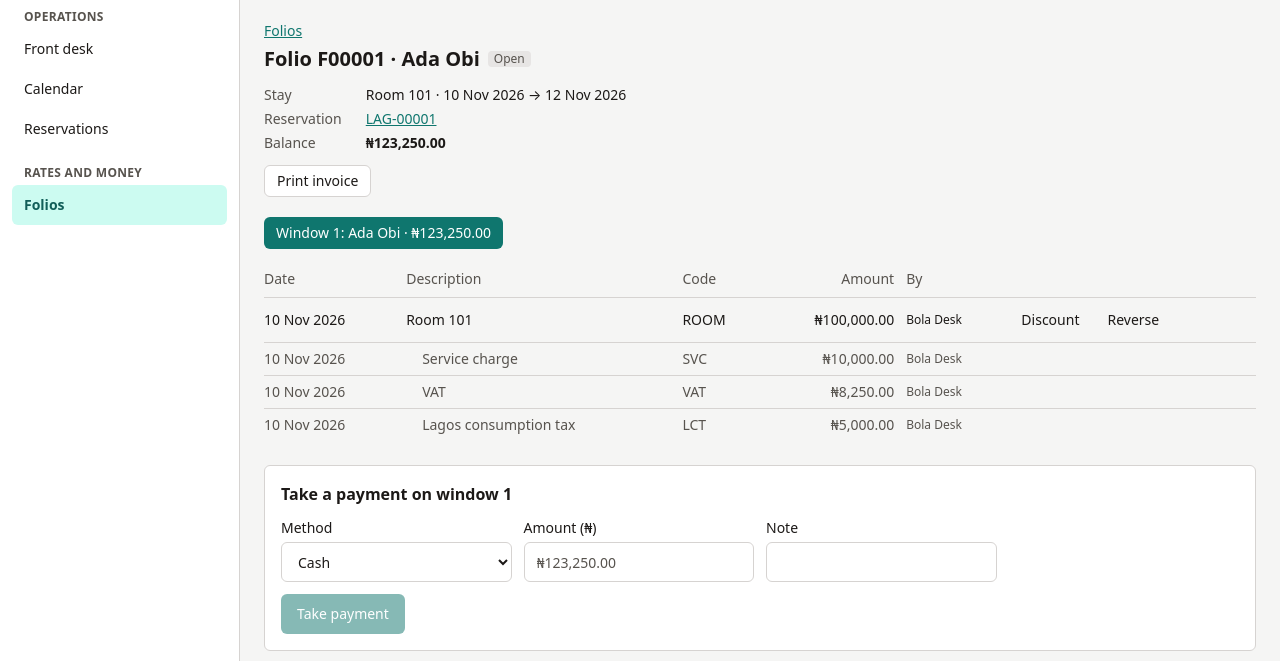
Test: Payments and documents (M4-08; T-062) › takes a payment with a reference for anything but cash
Expected: the field labelled "Reference" is not shown
Select "POS terminal" in the dropdown labelled "Method": (396, 562) [281,542,512,582]
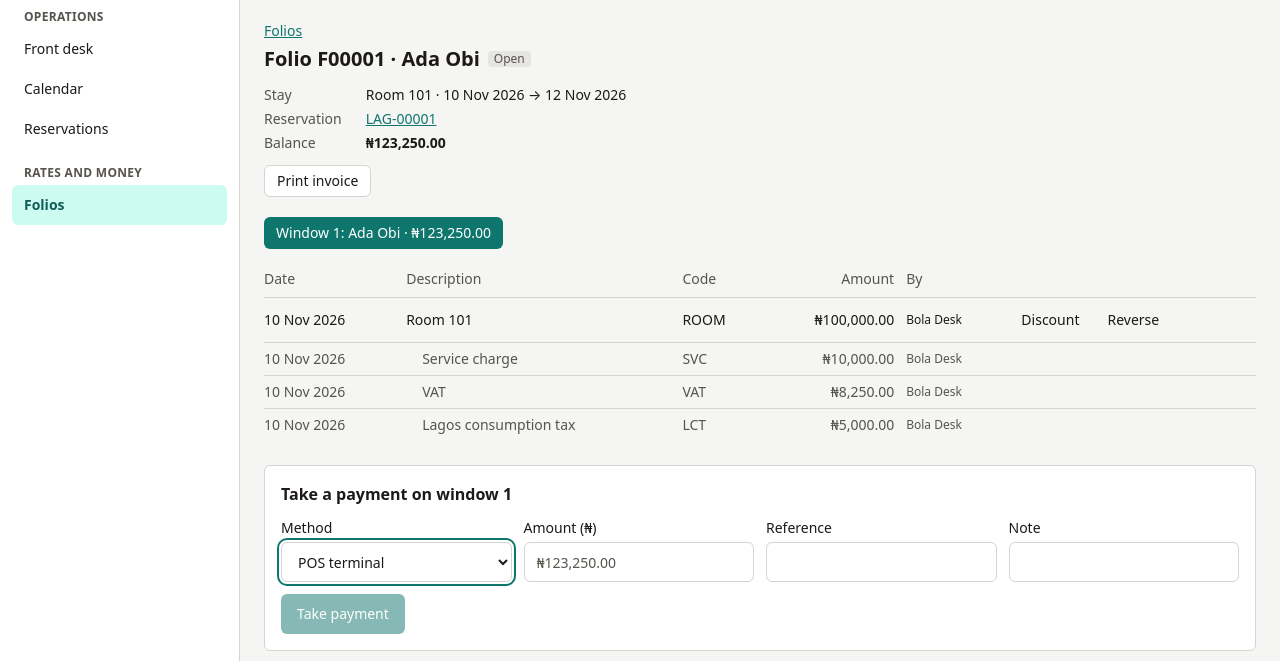
In the field labelled "Amount (₦)": (639, 562) [524,542,754,582], type "123,250"
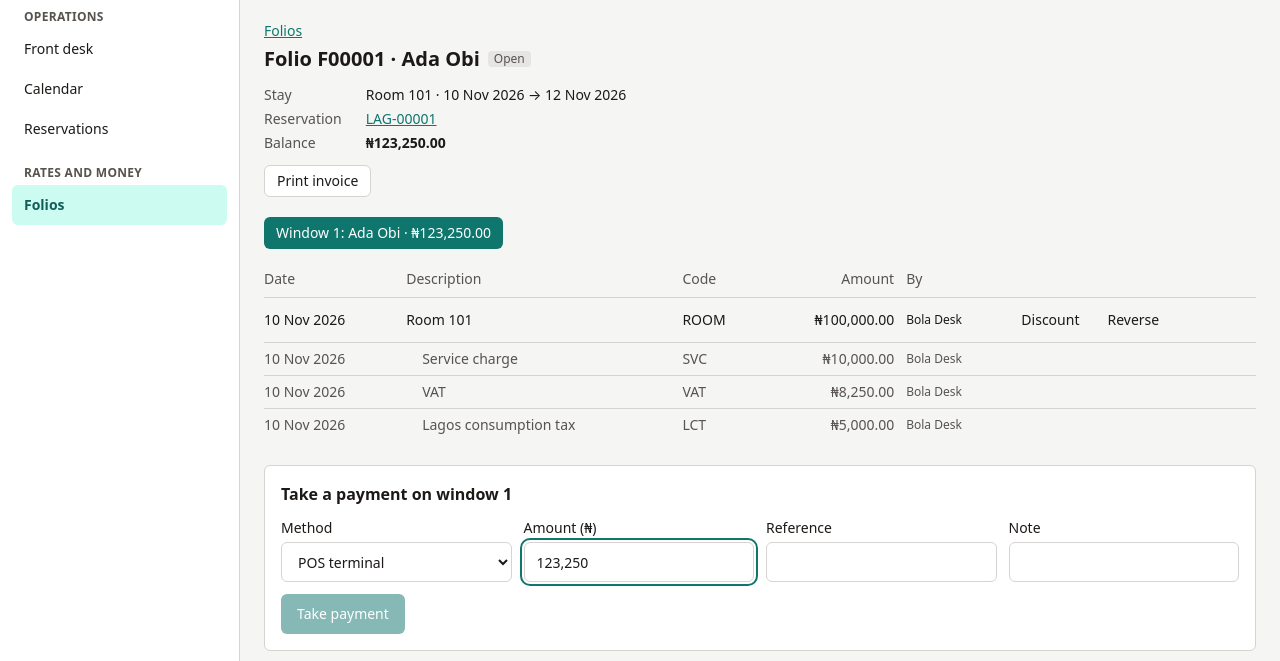
Expected: the button "Take payment" is disabled, [281,594,405,634]
In the field labelled "Reference": (881, 562) [766,542,996,582], type "MPT-77812"
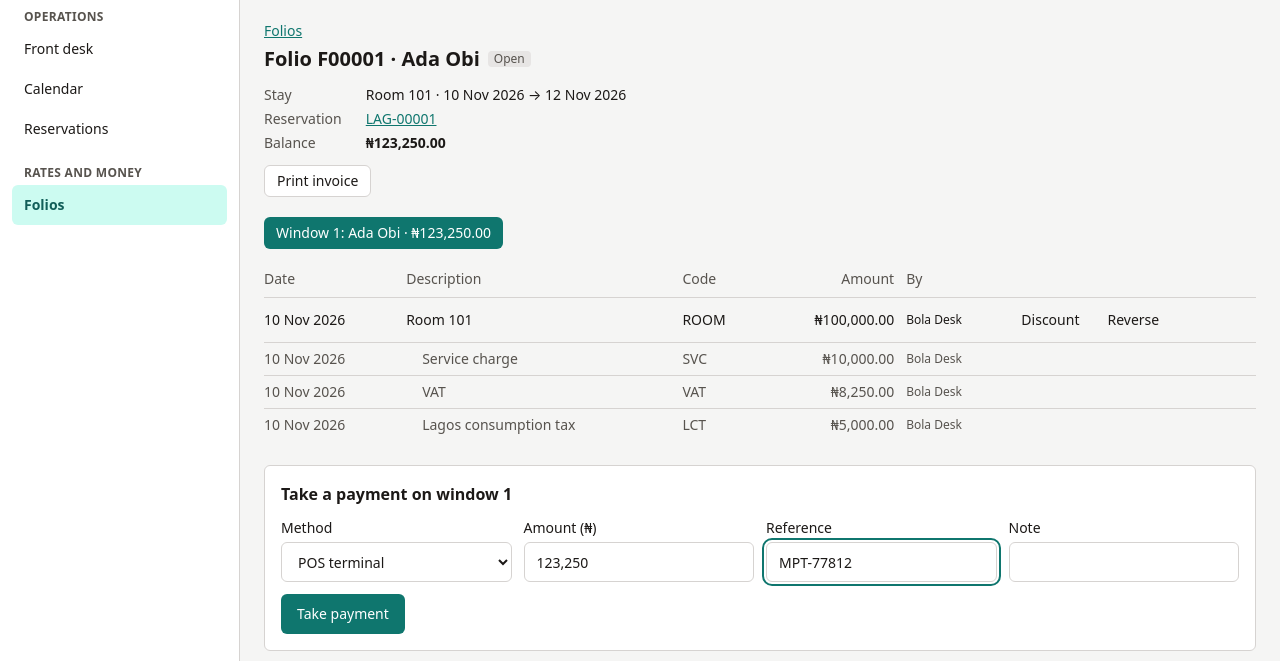
Click the button "Take payment": click(343, 614) [281,594,405,634]
(page scrolled)
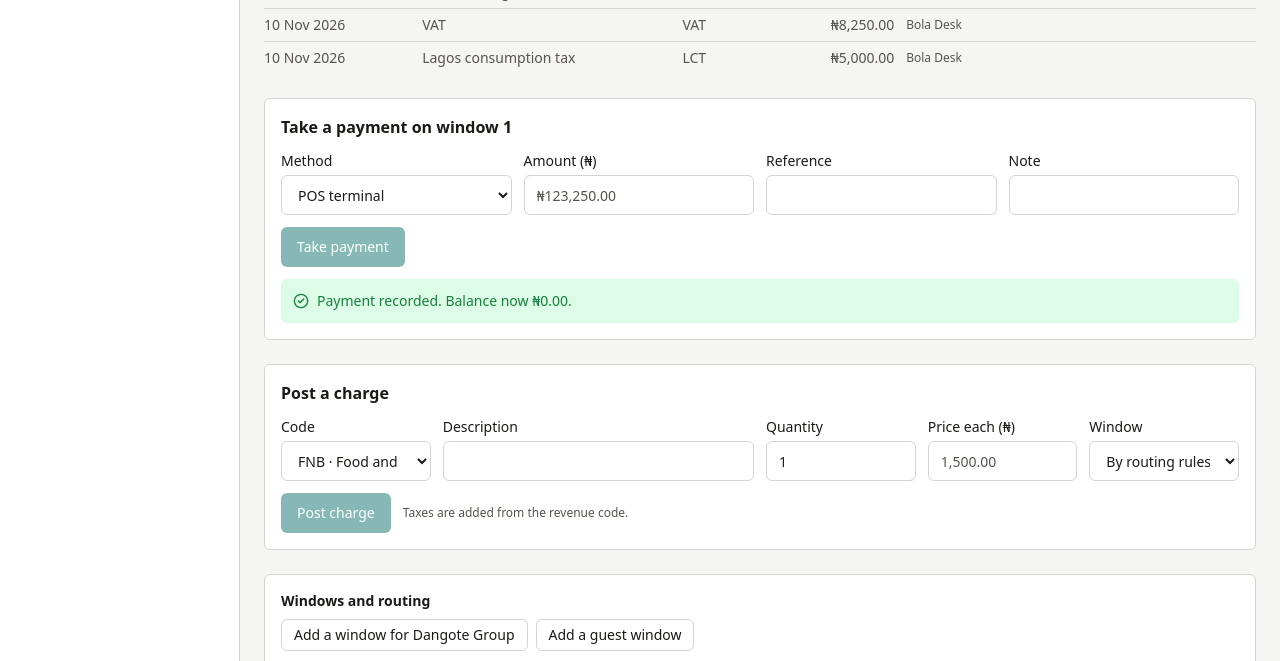
Expected: the text "Payment recorded. Balance now ₦0.00." is shown, [317,291,572,310]
